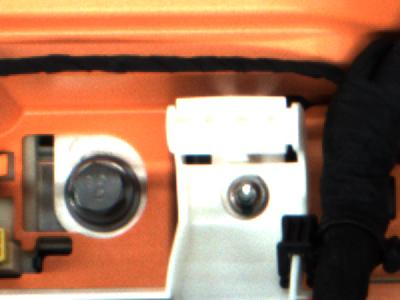nut_b: (56, 151, 152, 231)
